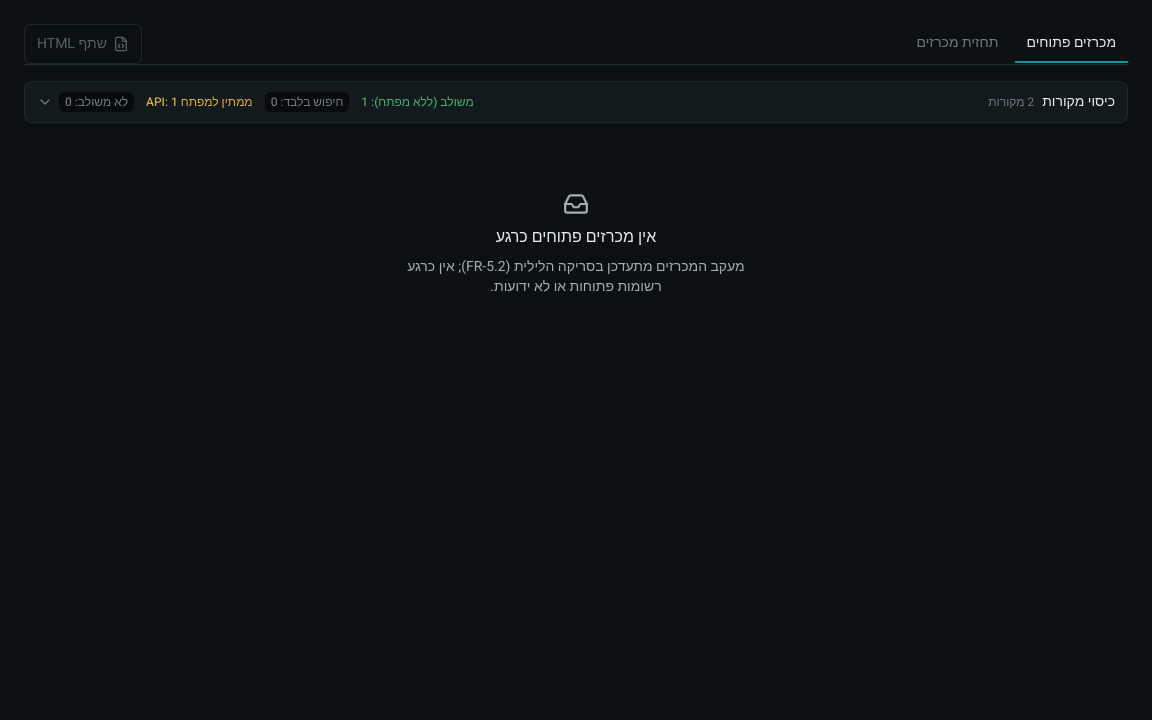
TendersPage — source coverage panel › collapses again on a second click
The width and height of the screenshot is (1152, 720).
Step 1. Click the button "כיסוי מקורות" → (1079, 102), box x1=25 y1=82 x2=1127 y2=122
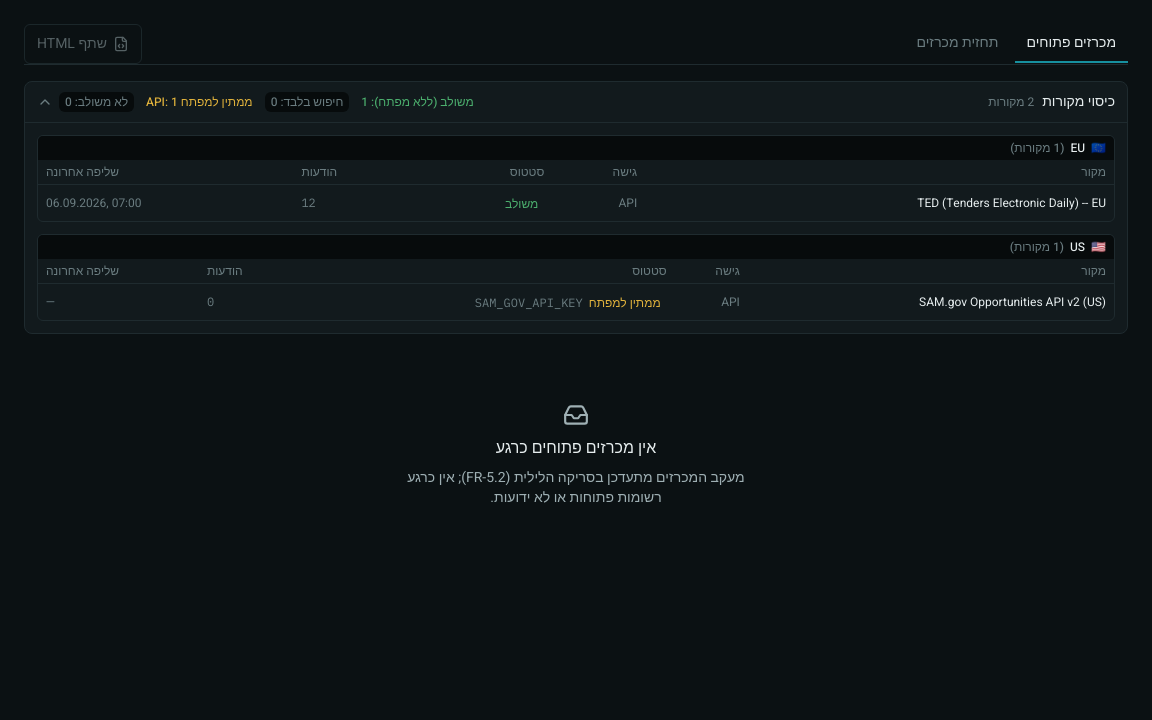
Expected: the text "TED (Tenders Electronic Daily) -- EU" is shown, x1=917 y1=194 x2=1106 y2=212
Step 2. Click the button "כיסוי מקורות" → (1079, 102), box x1=25 y1=82 x2=1127 y2=122
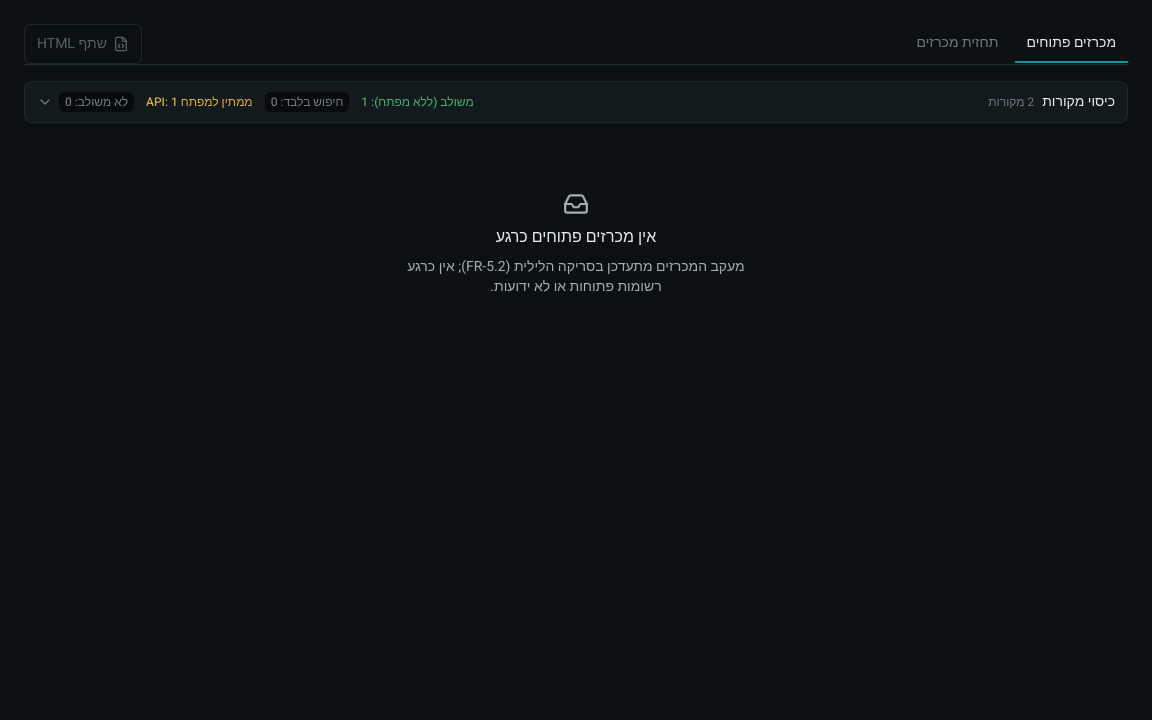
Expected: the text "TED (Tenders Electronic Daily) -- EU" is gone
